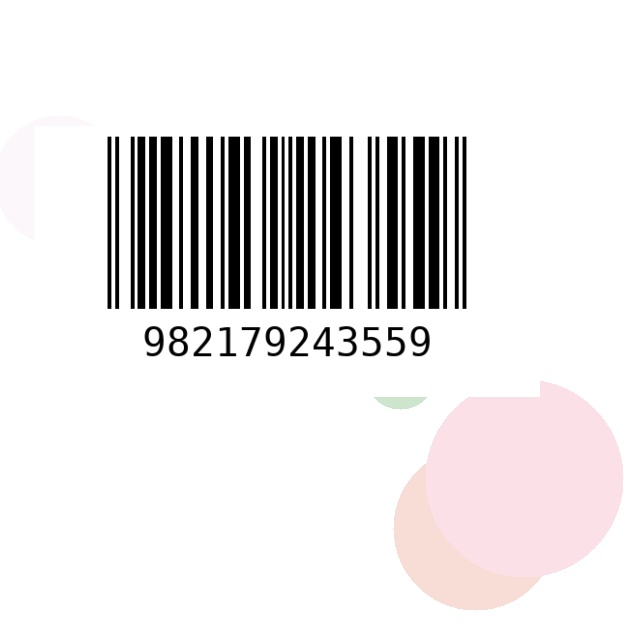barcode: (34, 126, 540, 397)
